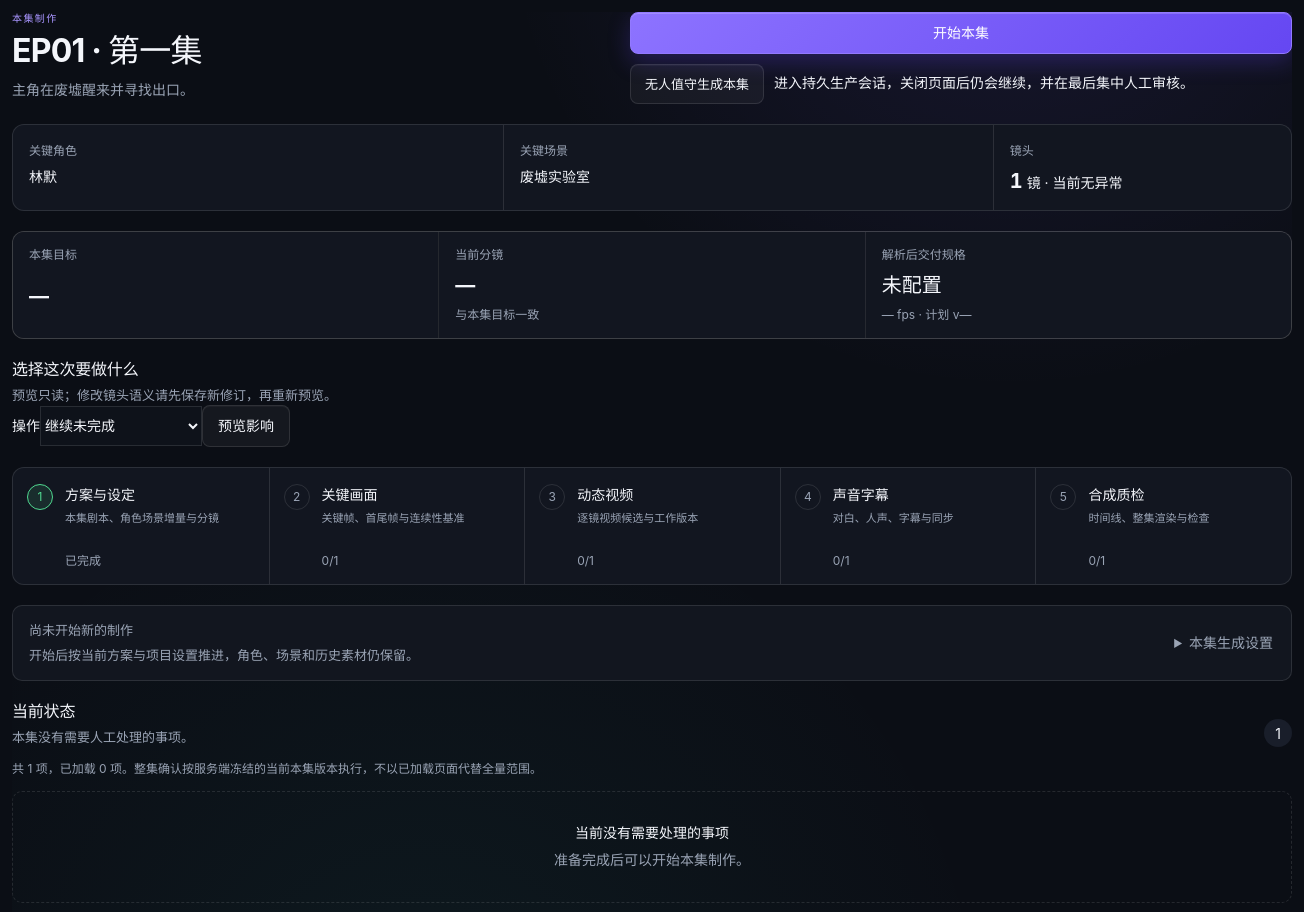
Test: EpisodeProductionWorkspace › explains that missing project character references must be approved before episode sync
This screenshot has width=1304, height=912.
Click the button "开始本集".
click(961, 33)  # box [630,12,1292,54]
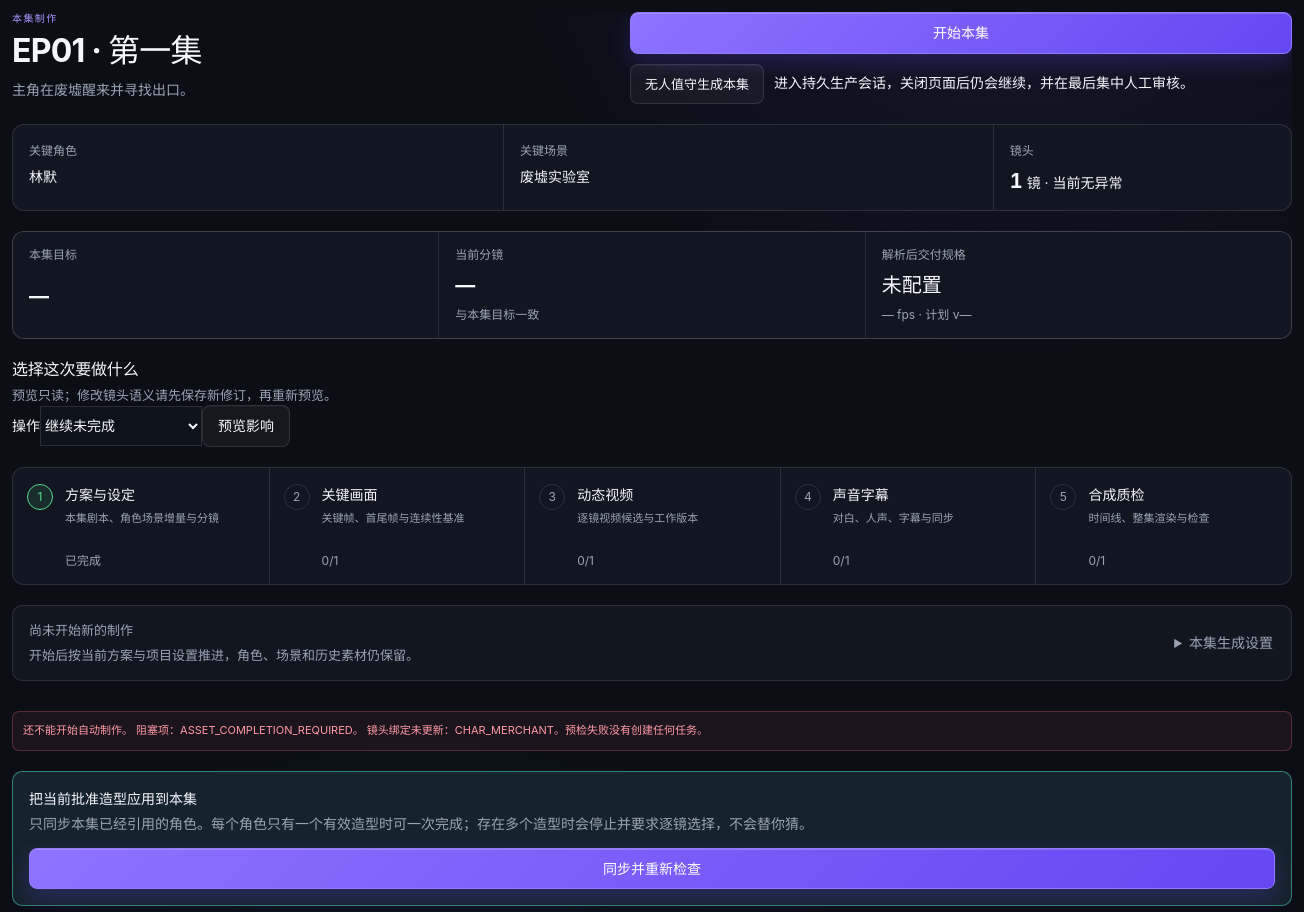
Click the button "同步并重新检查".
click(652, 869)  # box [29,848,1275,889]
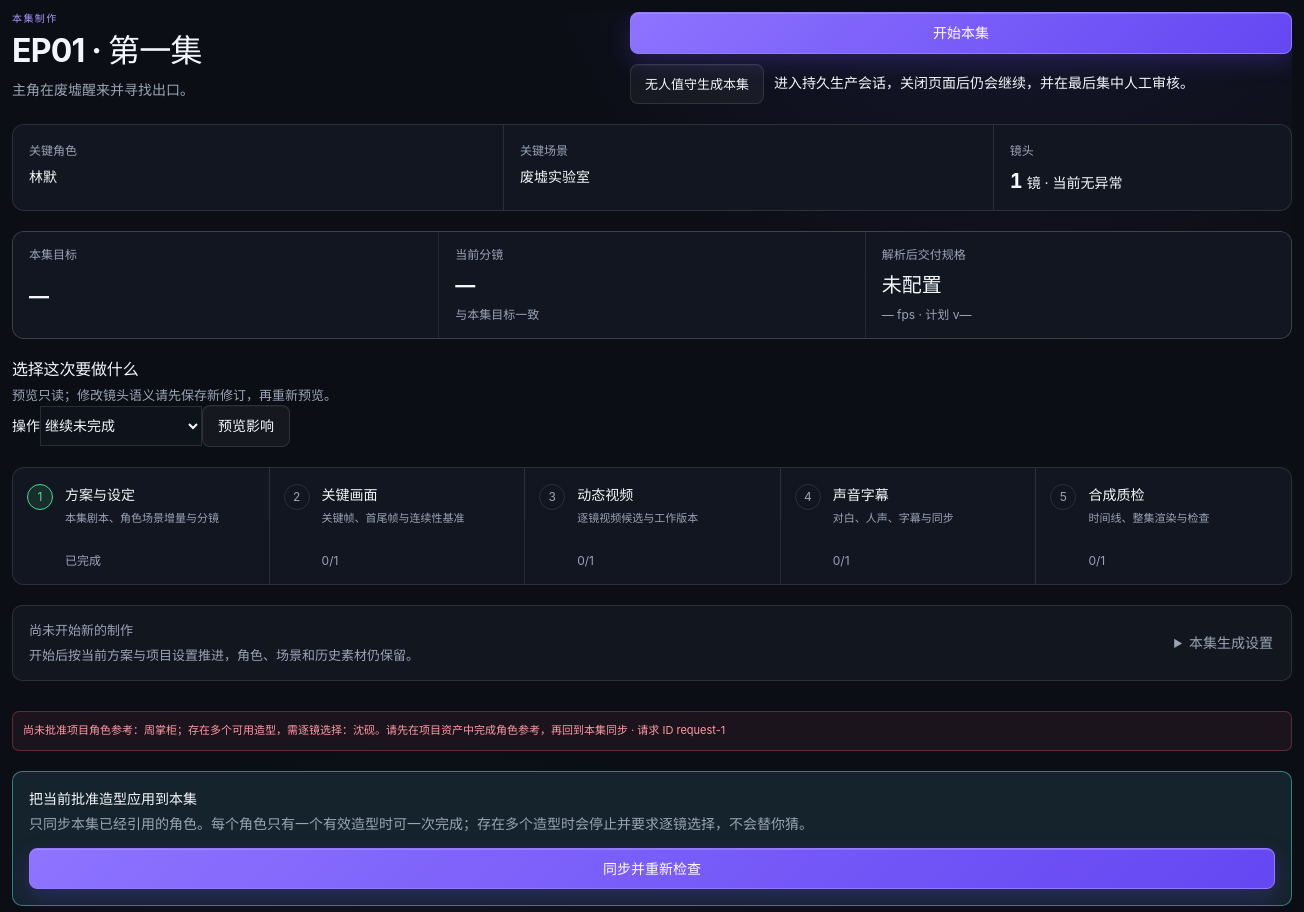
Result: the text "尚未批准项目角色参考：周掌柜；存在多个可用造型，需逐镜选择：沈砚。请先在项目资产中完成角色参考，再回到本集同步 · 请求 ID request-1" is shown at [12,711,1292,751]
